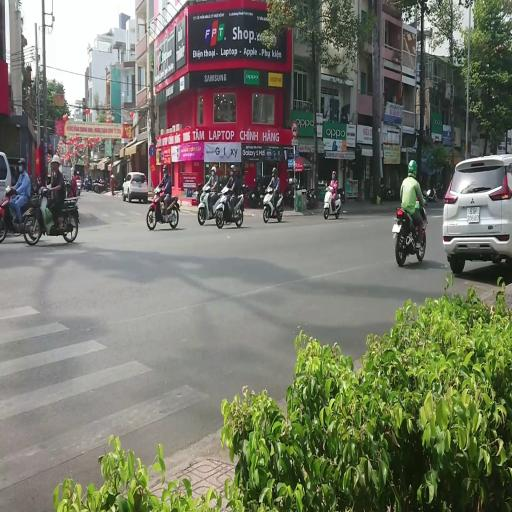bikes: (23, 180, 79, 244), (392, 191, 428, 266), (0, 184, 42, 244), (146, 187, 180, 230), (215, 189, 244, 228), (197, 183, 221, 225), (262, 186, 284, 222), (323, 183, 341, 219), (245, 177, 264, 207), (428, 164, 444, 199), (63, 176, 81, 198), (285, 178, 299, 204), (93, 178, 109, 194), (422, 186, 437, 203), (306, 186, 315, 208), (196, 182, 204, 204), (421, 188, 431, 205), (76, 179, 81, 196)
helmet: (407, 160, 417, 177), (18, 158, 26, 172), (51, 155, 60, 164), (230, 164, 235, 175), (36, 173, 41, 184), (18, 158, 26, 164), (162, 165, 168, 173), (5, 186, 11, 194), (47, 154, 52, 163), (211, 166, 216, 174), (272, 168, 277, 176), (332, 171, 336, 179), (206, 174, 209, 180), (37, 173, 40, 179), (76, 171, 80, 175), (111, 174, 114, 178)
